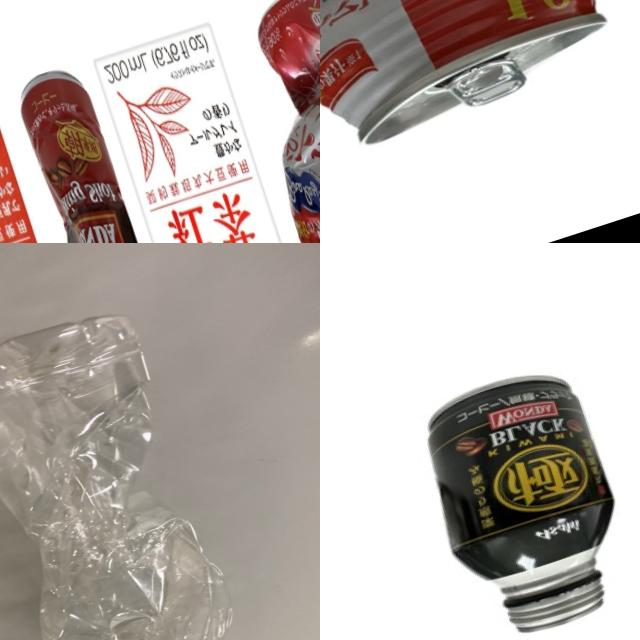Aluminium Foil: (84, 16, 320, 243), (0, 89, 136, 243)
Can: (400, 355, 640, 640), (320, 0, 628, 176), (0, 61, 169, 243), (224, 0, 320, 243)
Transparent Plastic Bottle: (0, 301, 275, 640)
